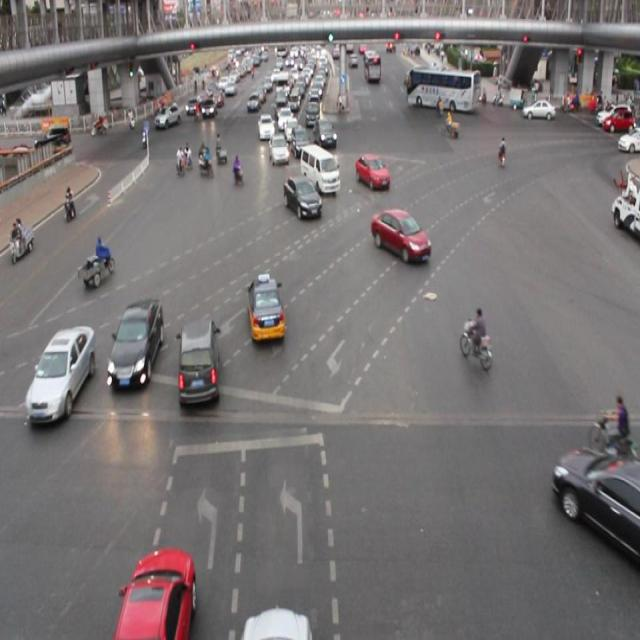car: (553, 434, 640, 562), (122, 546, 195, 640), (27, 324, 96, 421), (106, 296, 164, 388), (177, 318, 221, 404), (371, 205, 430, 266), (246, 269, 286, 347), (283, 174, 321, 218), (353, 150, 389, 191), (268, 134, 290, 166)
truck: (298, 143, 339, 195)
